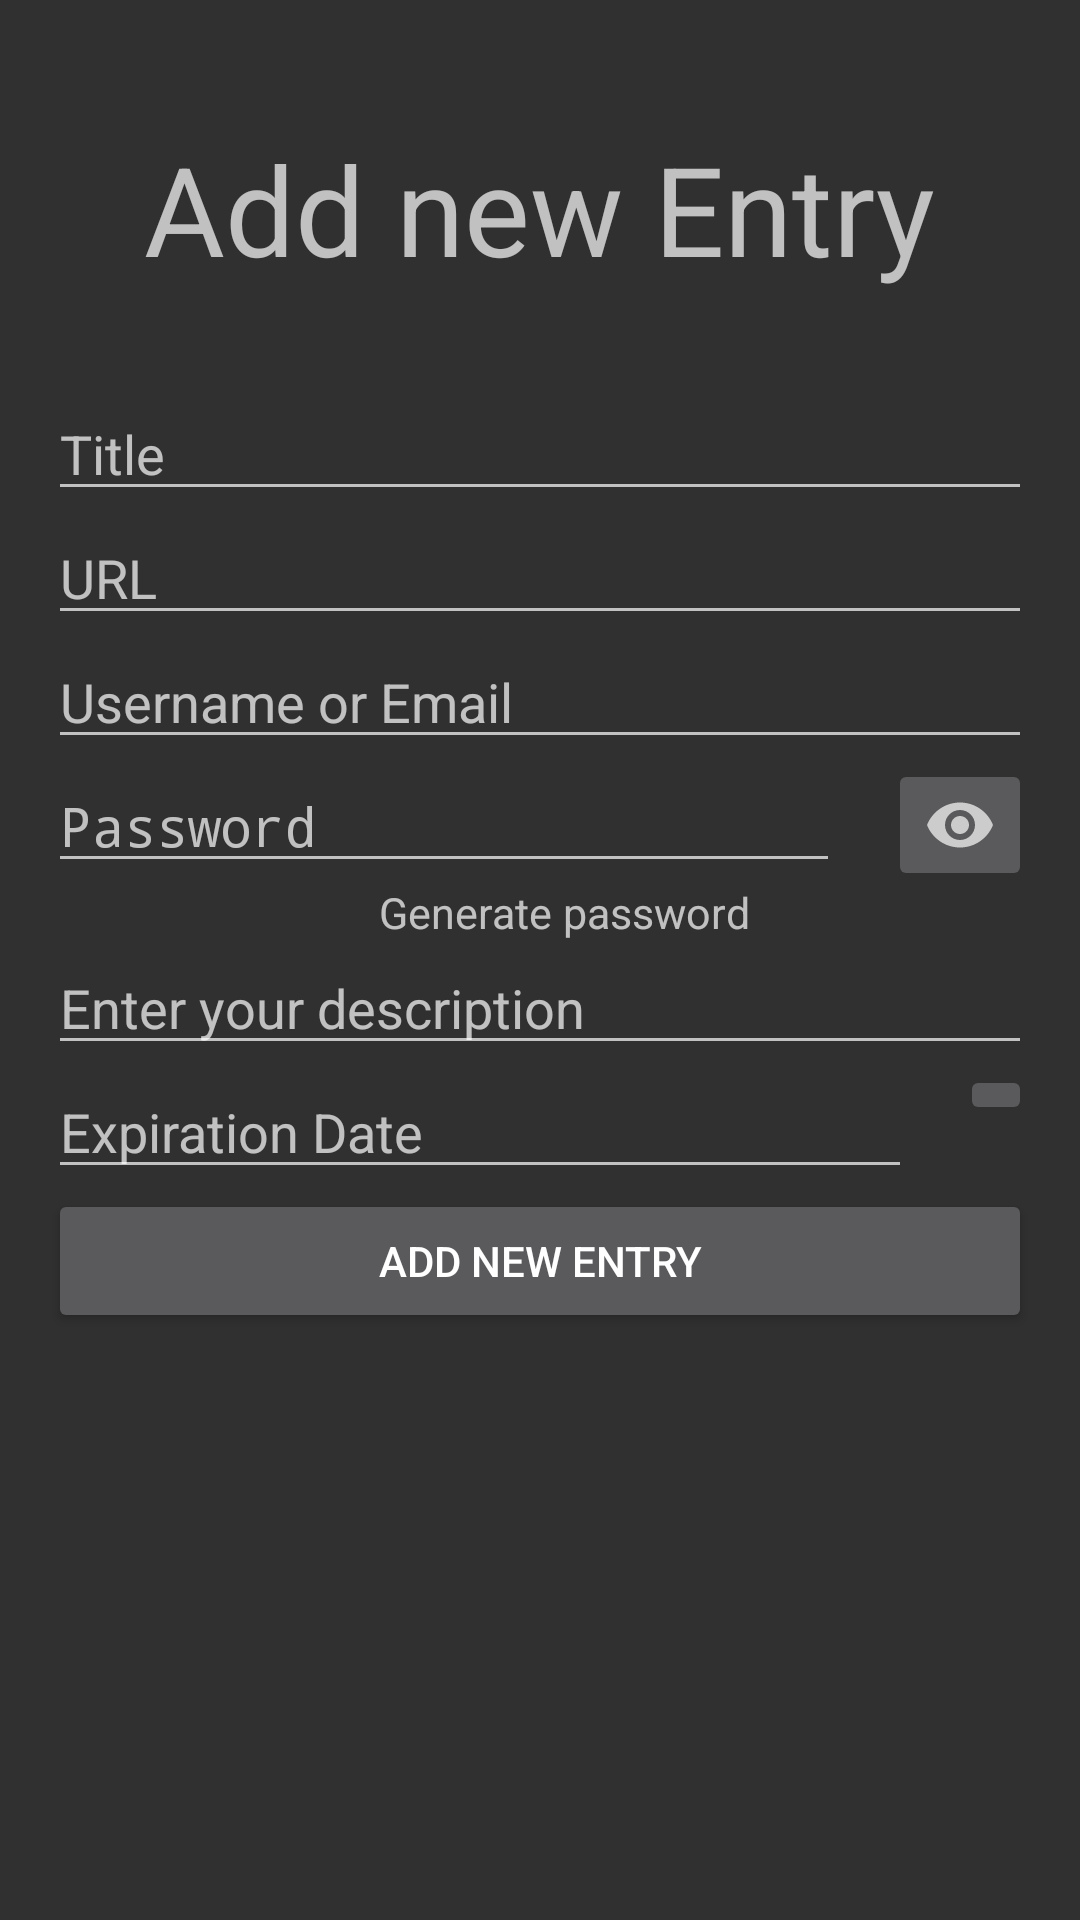

Locate icon controls on the screen. Image size 1080 × 1920, boxes as {"left": x1, "top": y1, "right": x2, "bottom": y2}.
showpassbutton: {"left": 900, "top": 777, "right": 1020, "bottom": 873}
